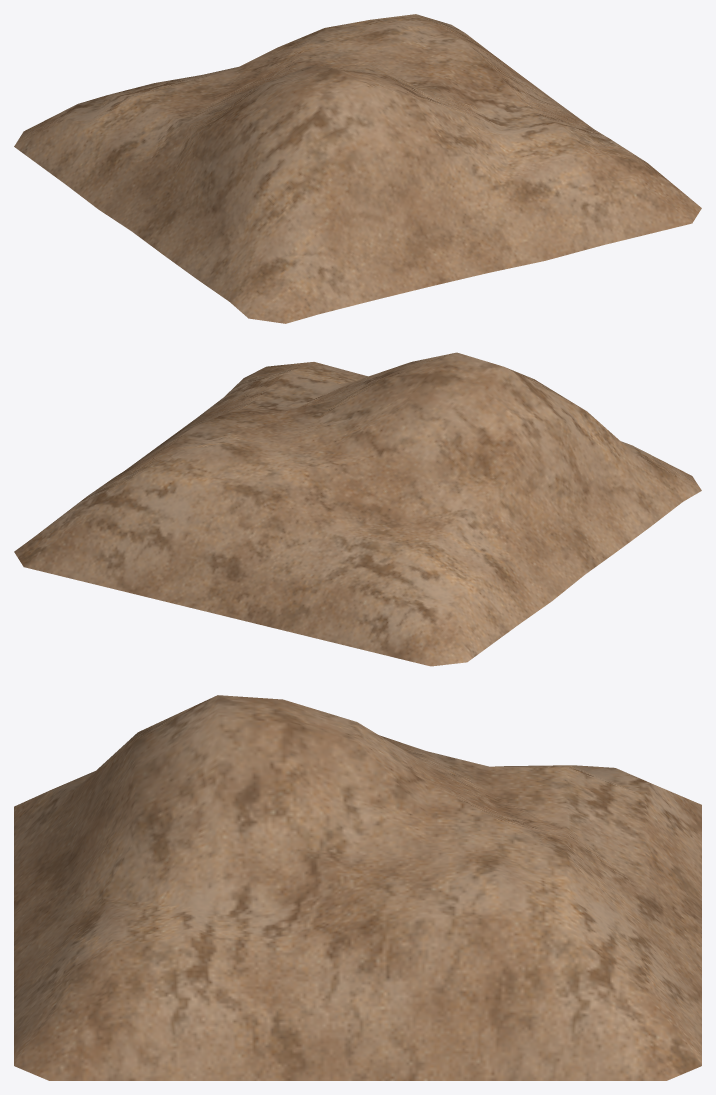
Rendered from Sand slide 3.fbx.
The picture shows the model from 3 angles, top to bottom: view 1: azimuth 30°, elevation 25°; view 2: azimuth 150°, elevation 25°; view 3: azimuth 270°, elevation 25°; orthographic projection. The views are drawn at different scales.
Parts seen in each view (by area): view 1: Deslizamento 3; view 2: Deslizamento 3; view 3: Deslizamento 3.
Part boxes in pixels (x1,y1,x2,y2): Deslizamento 3: (14, 14, 701, 323); Deslizamento 3: (14, 352, 701, 666); Deslizamento 3: (14, 695, 701, 1080).
Size of the model in its own units: 625 by 188 by 625.
